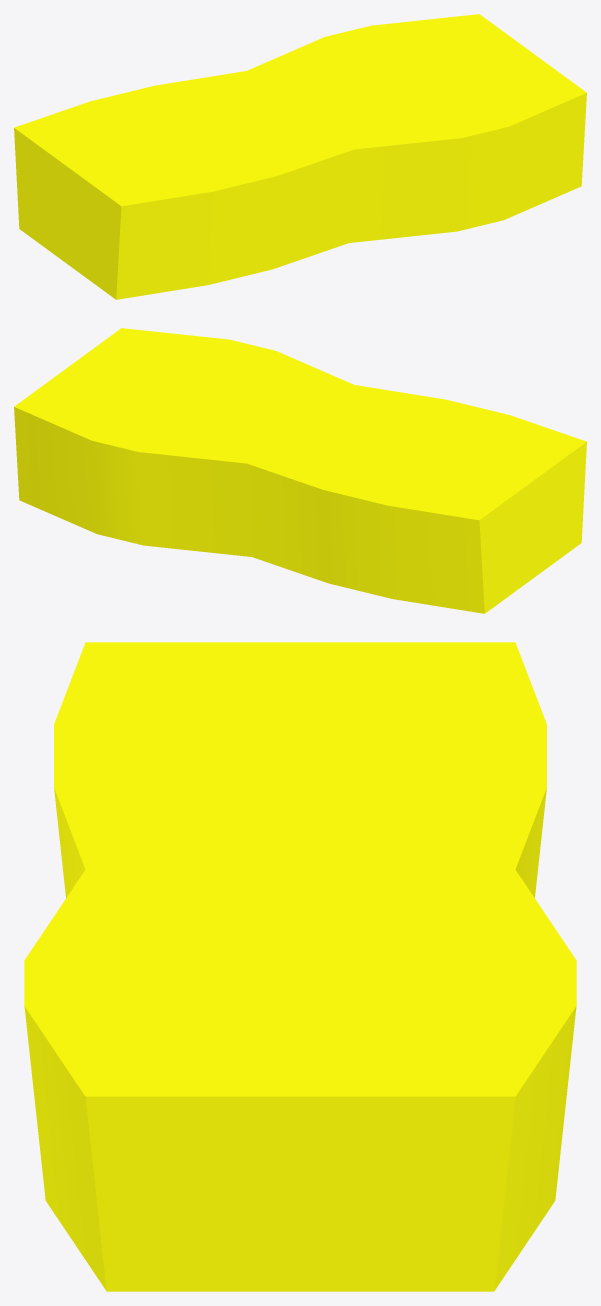
Rendered from 围墙门楼_门_岩壁悬门.glb.
The picture shows the model from 3 angles, top to bottom: view 1: azimuth 30°, elevation 25°; view 2: azimuth 150°, elevation 25°; view 3: azimuth 270°, elevation 25°; orthographic projection. The views are drawn at different scales.
Parts seen in each view (by area): view 1: gate-overhang; view 2: gate-overhang; view 3: gate-overhang.
Part boxes in pixels (box(x1,y1,x2,y2)): gate-overhang: box(14, 14, 586, 299); gate-overhang: box(14, 328, 586, 613); gate-overhang: box(24, 642, 576, 1291).
Size of the model in its own units: 4 by 0.8 by 2.05.
Materials: 1 (1 with a texture image).
